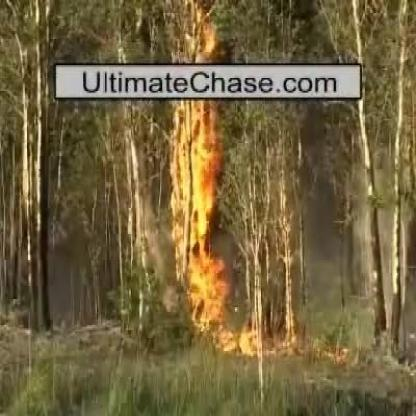foggia-v2-map80-epoch100 - v1 4323: (166, 104, 226, 340), (168, 1, 220, 61)
